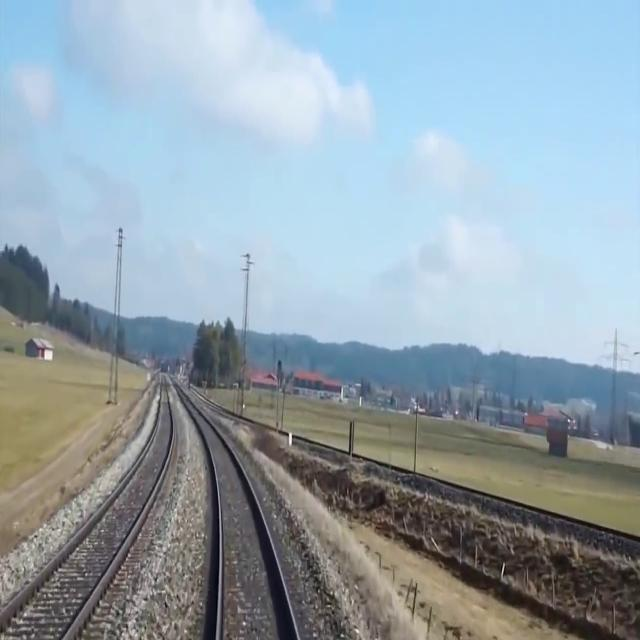rail-track: (0, 382, 171, 639), (186, 400, 295, 639)
